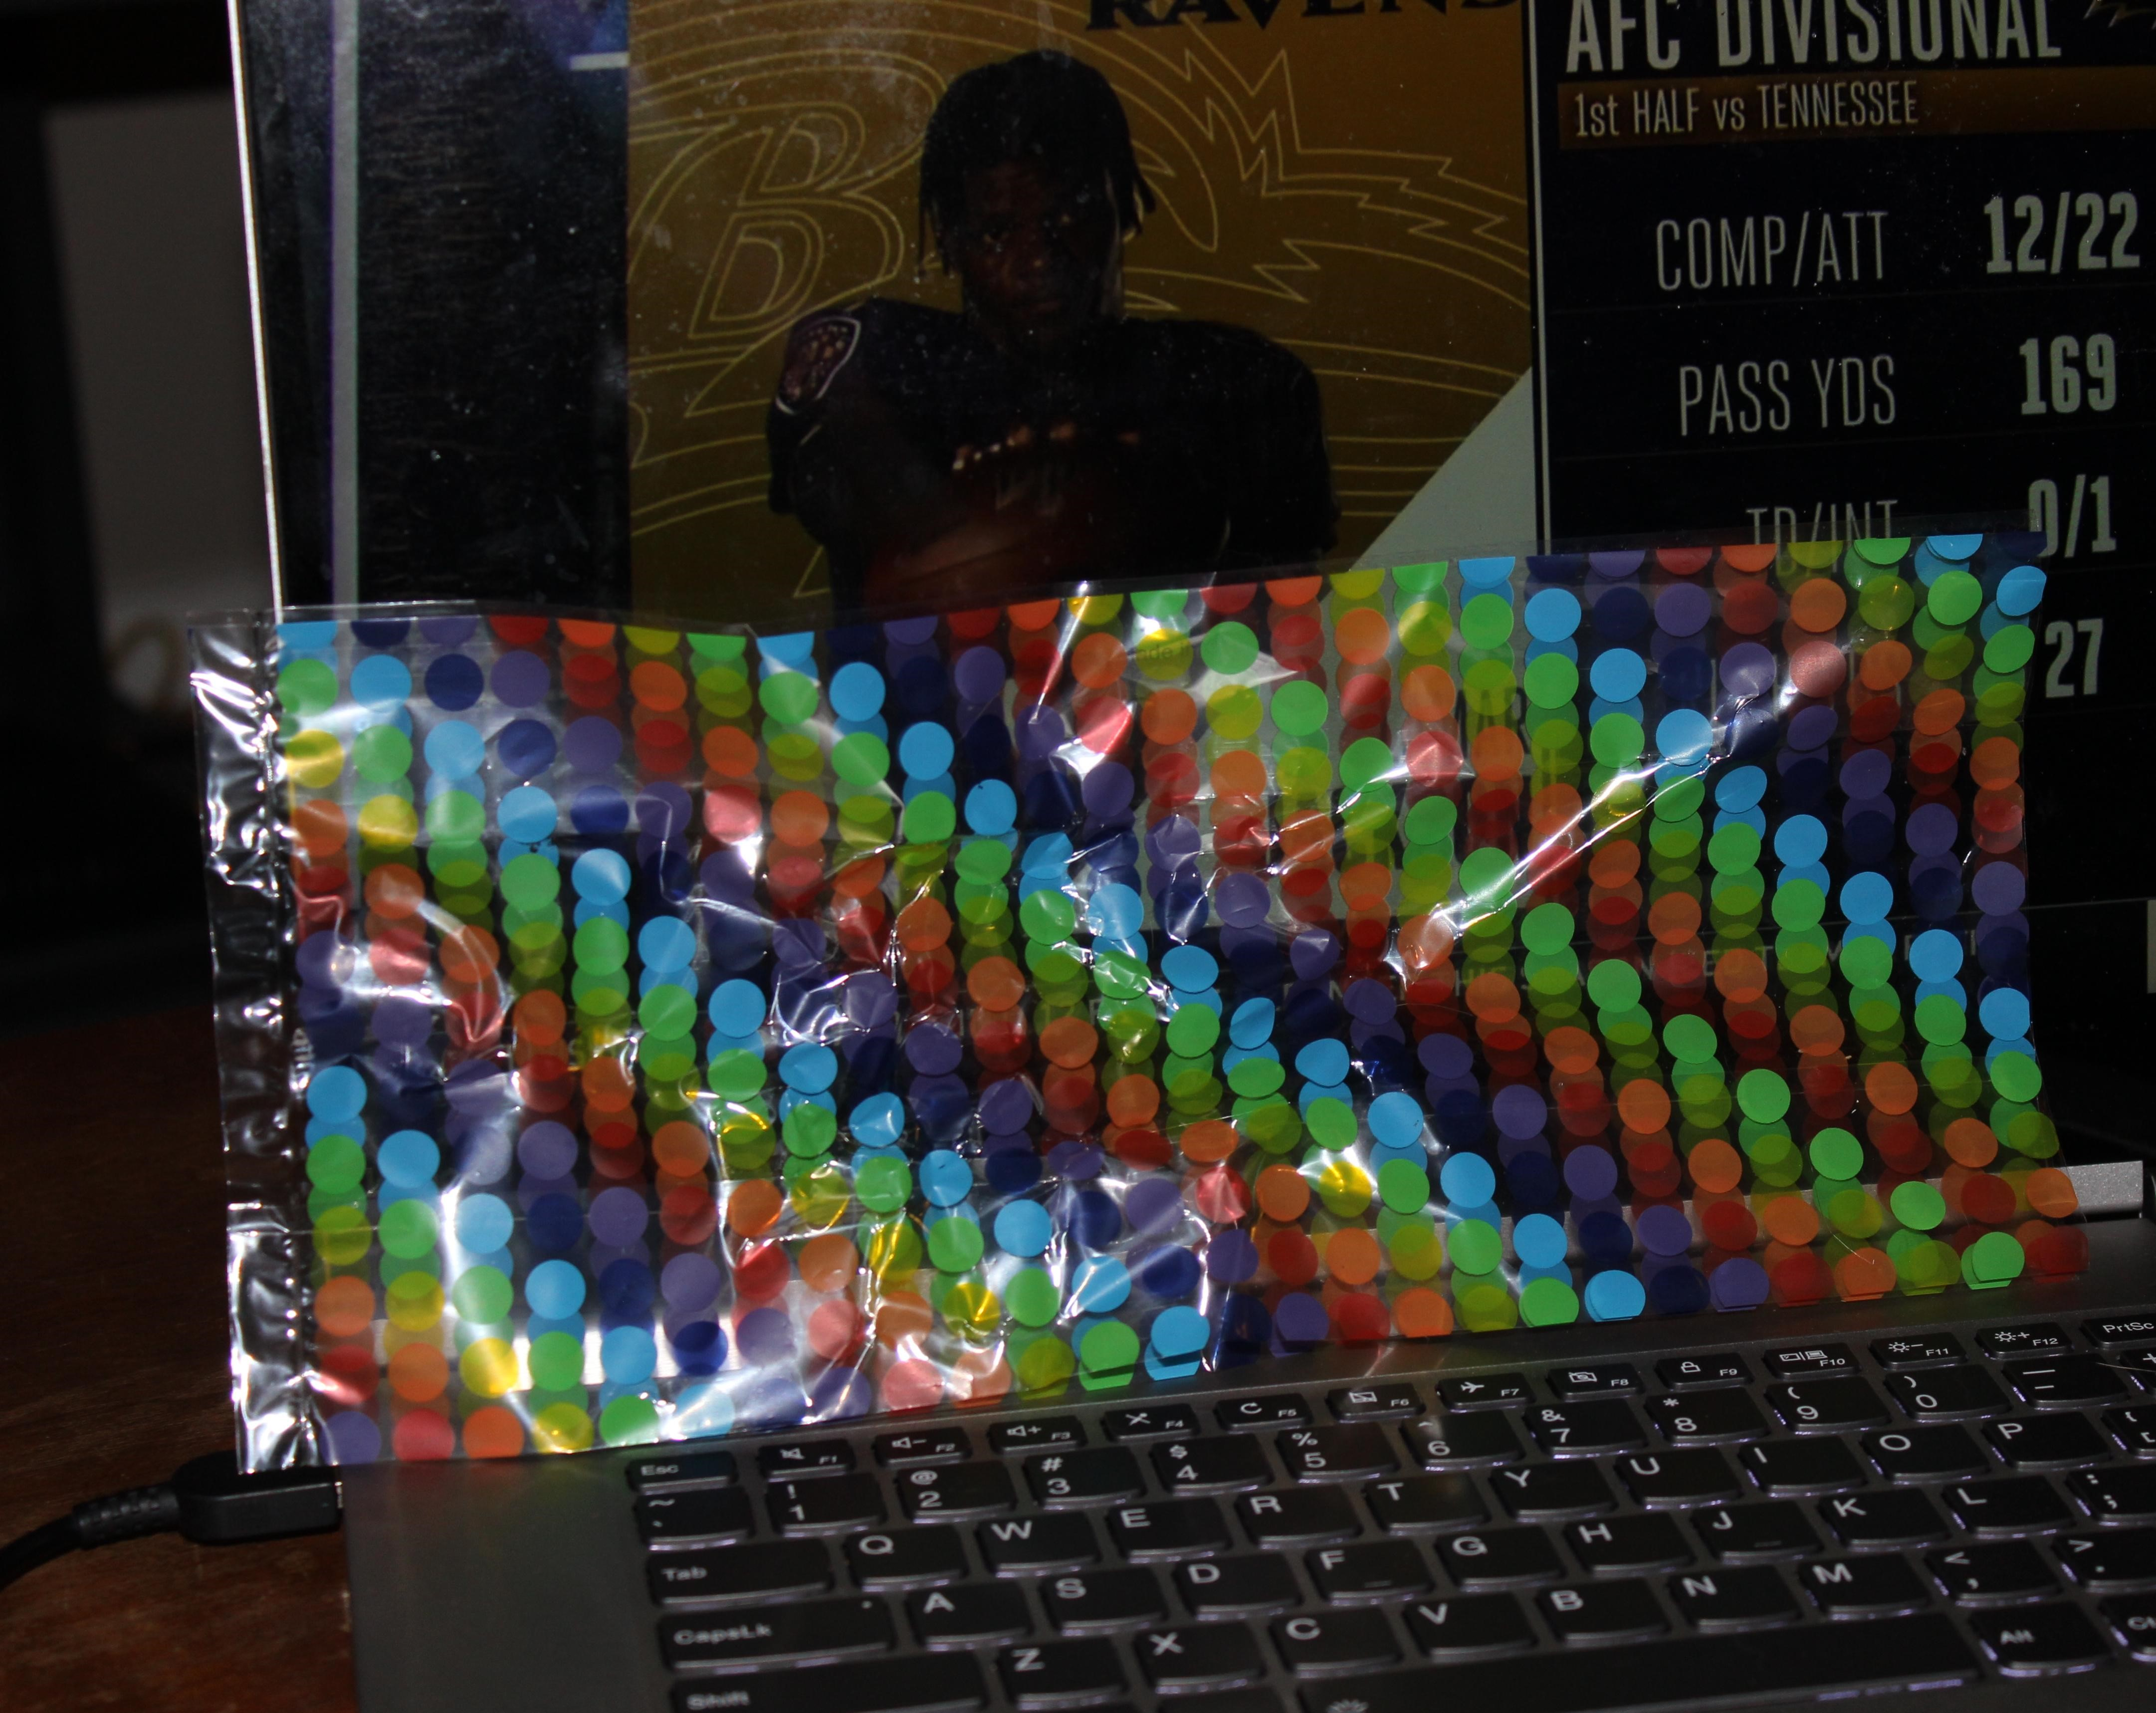giftBag: (152, 490, 2096, 1494)
